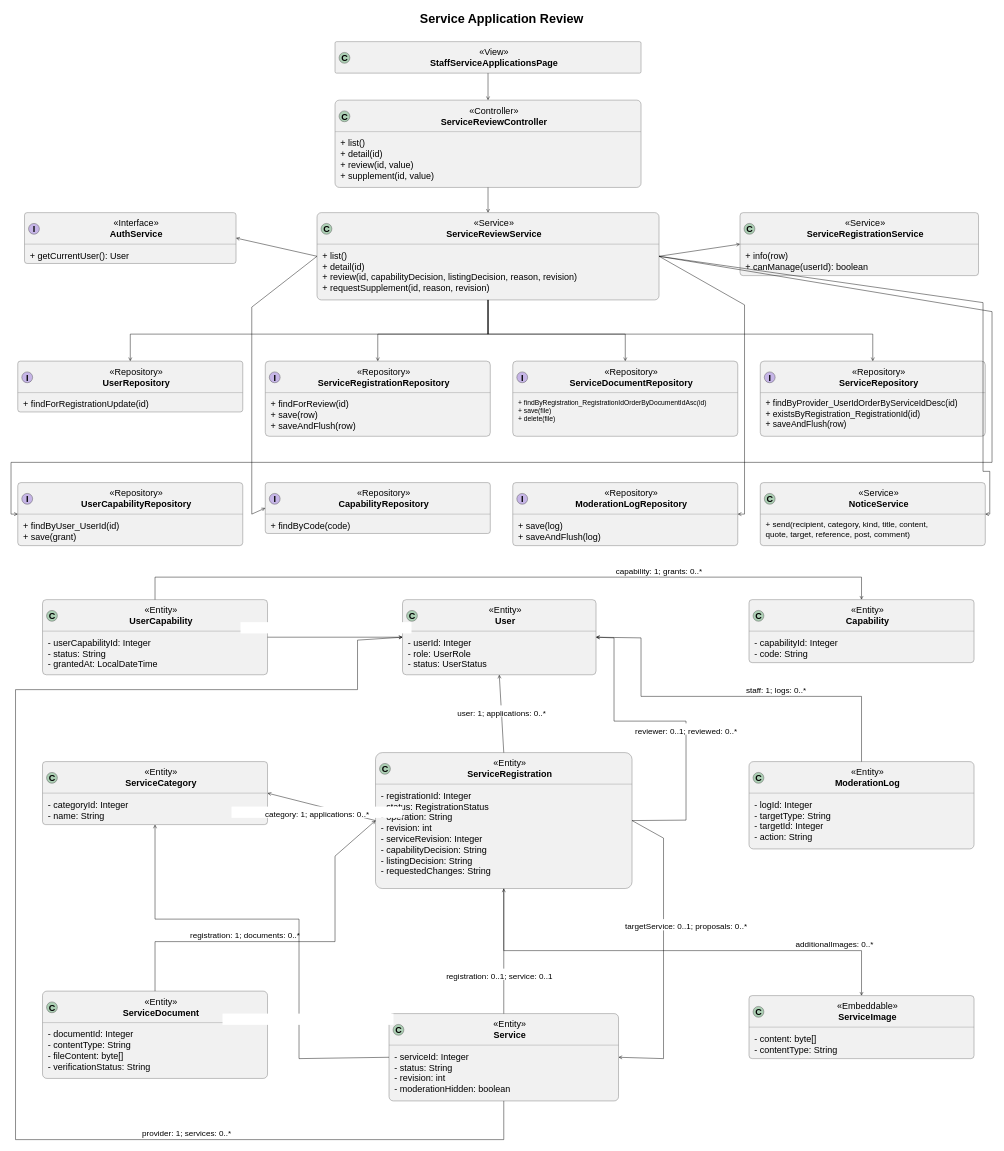
Image size: 1004x1151. Some labels were removed from this diagram. The centre of each missing label's shape, as x and y in pixels:
category: 1; services: 0..*: the point at 307,1019
user: 1; grants: 0..*: the point at 325,627
